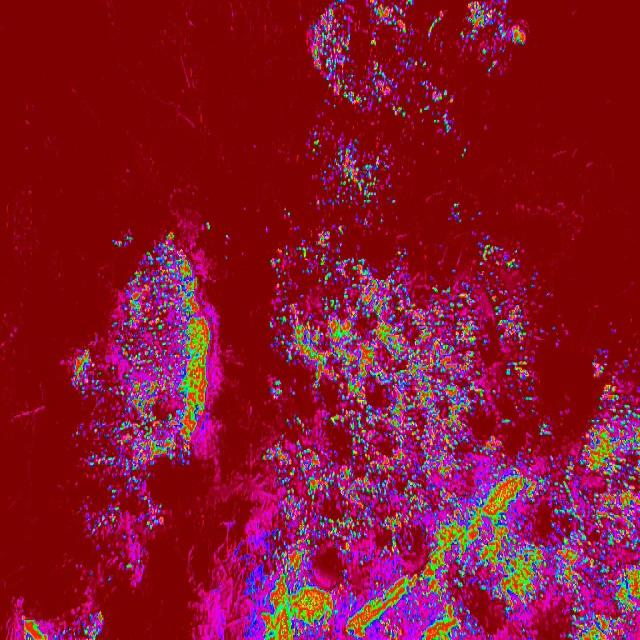fire: (268, 250, 538, 640), (110, 226, 220, 464), (68, 336, 164, 584), (579, 351, 640, 640), (300, 0, 420, 130), (538, 444, 580, 640), (322, 142, 392, 228), (219, 520, 268, 640), (456, 0, 532, 74), (10, 600, 109, 640)
